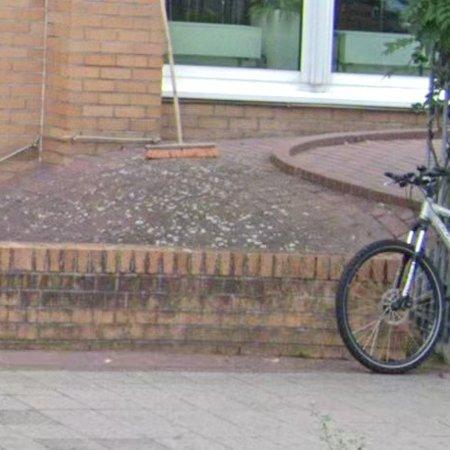bicycles: (337, 240, 444, 374)
